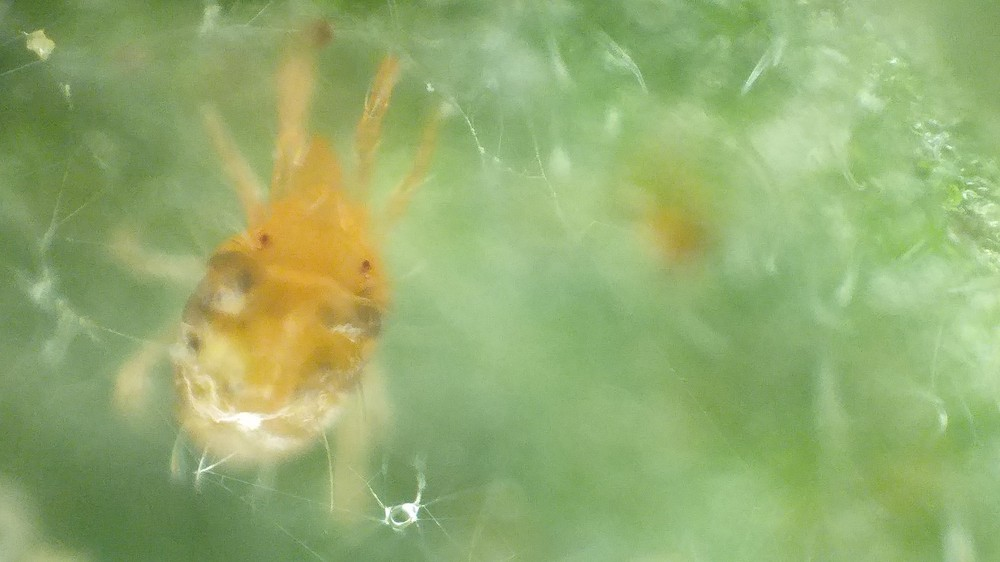Aracnido Rojo: (107, 36, 481, 538)
